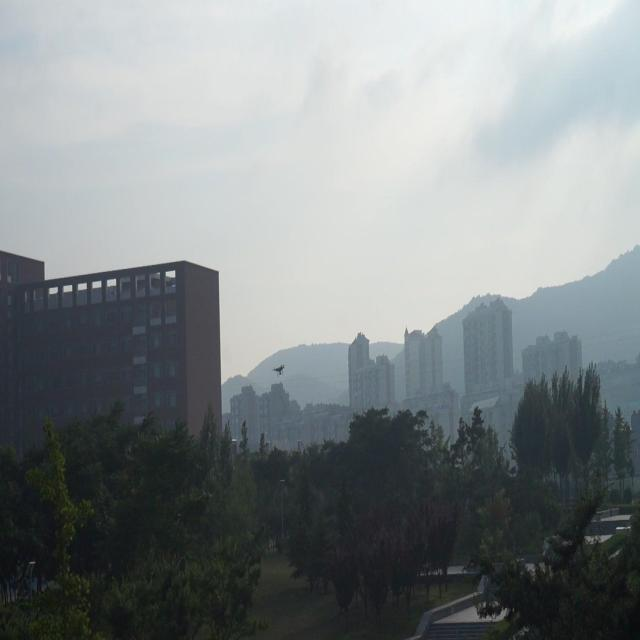drone: (272, 361, 288, 378)
